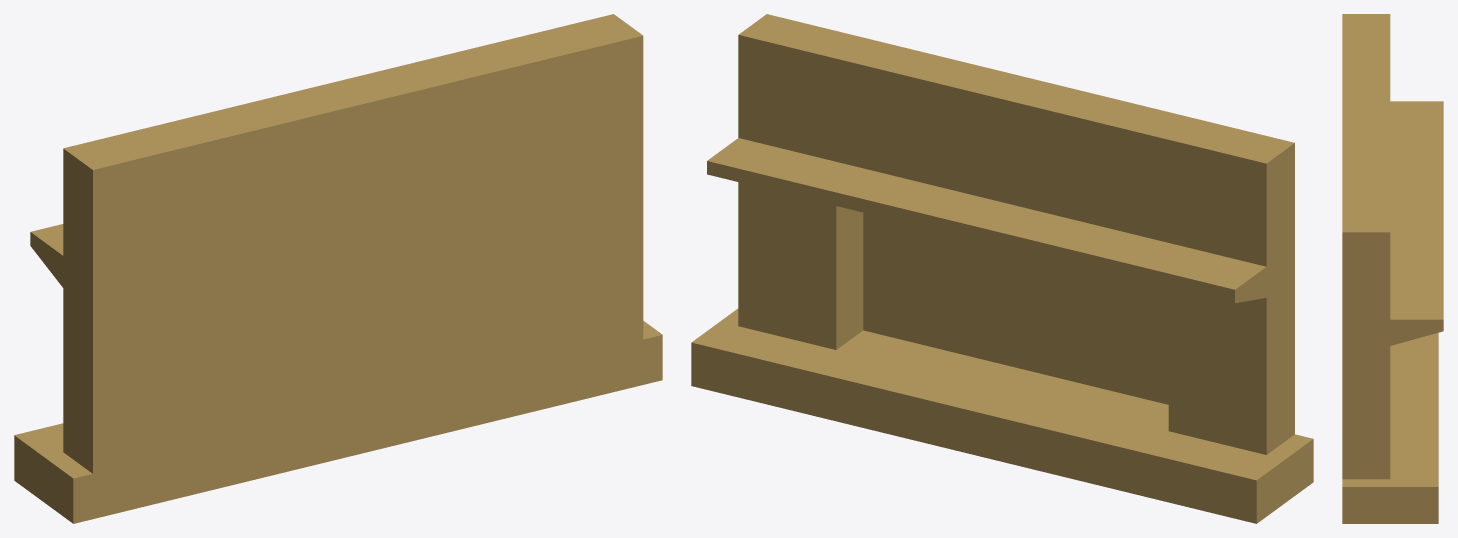
File: Decor_Fireplace.fbx
The picture shows the model from 3 angles, left to right: view 1: azimuth 30°, elevation 25°; view 2: azimuth 150°, elevation 25°; view 3: azimuth 270°, elevation 25°; orthographic projection. The views are drawn at different scales.
Visible parts, largest first — view 1: Fireplace; view 2: Fireplace; view 3: Fireplace.
Boxes of the visible parts, x1,y1,x2,y2 form: Fireplace: (14,14,662,523); Fireplace: (691,14,1313,523); Fireplace: (1342,14,1443,523).
Bounding box in the file's own units: 2.75 × 1.56 × 0.5045.
1 material, 1 textured.
